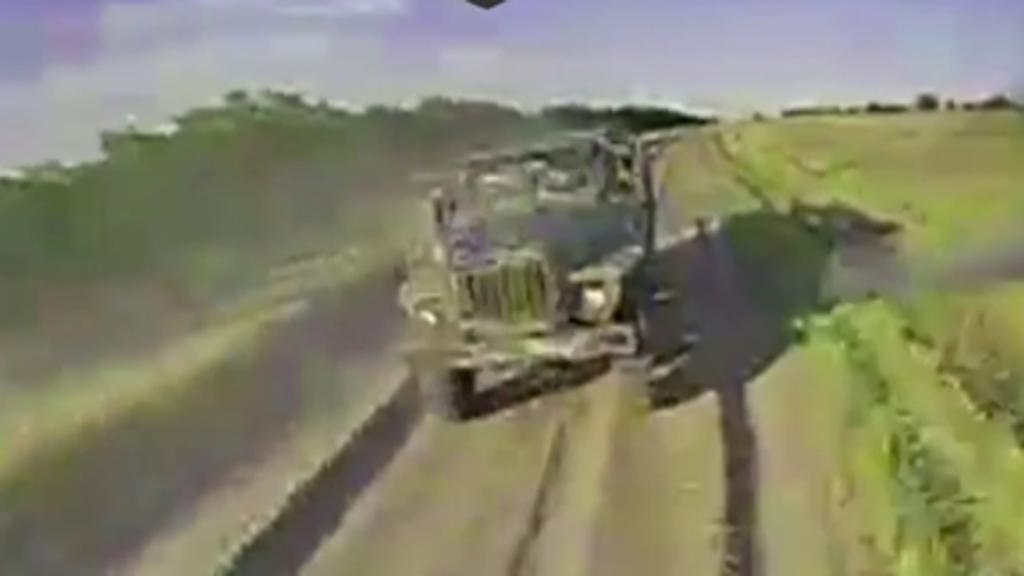TRUCK: (396, 121, 654, 422)
